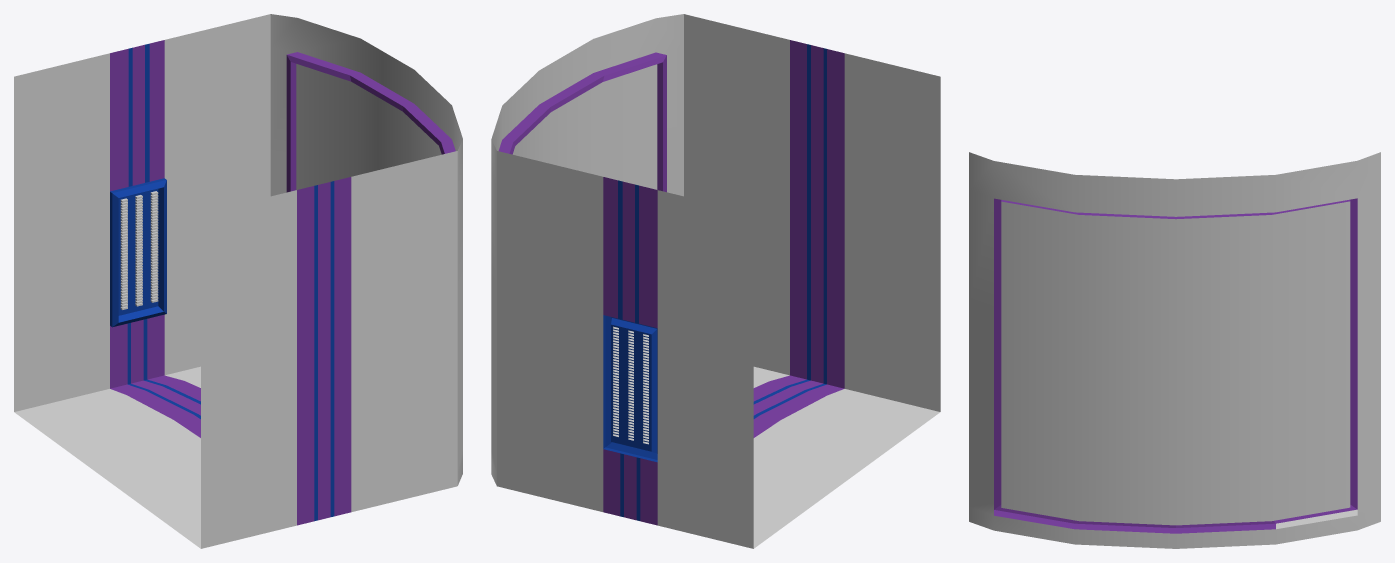
Rendered from Moonlight_Elevator.fbx.
3 renders of one model, left to right at view 1: azimuth 30°, elevation 25°; view 2: azimuth 150°, elevation 25°; view 3: azimuth 270°, elevation 25°, orthographic. The views are drawn at different scales.
Parts seen in each view (by area): view 1: Elevator_interior; view 2: Elevator_interior; view 3: Elevator_interior.
Boxes of the visible parts, x1=… form: Elevator_interior: x1=14, y1=14, x2=462, y2=548; Elevator_interior: x1=491, y1=14, x2=940, y2=548; Elevator_interior: x1=969, y1=152, x2=1380, y2=548.
Size of the model in its own units: 4.79 by 5.01 by 5.05.
